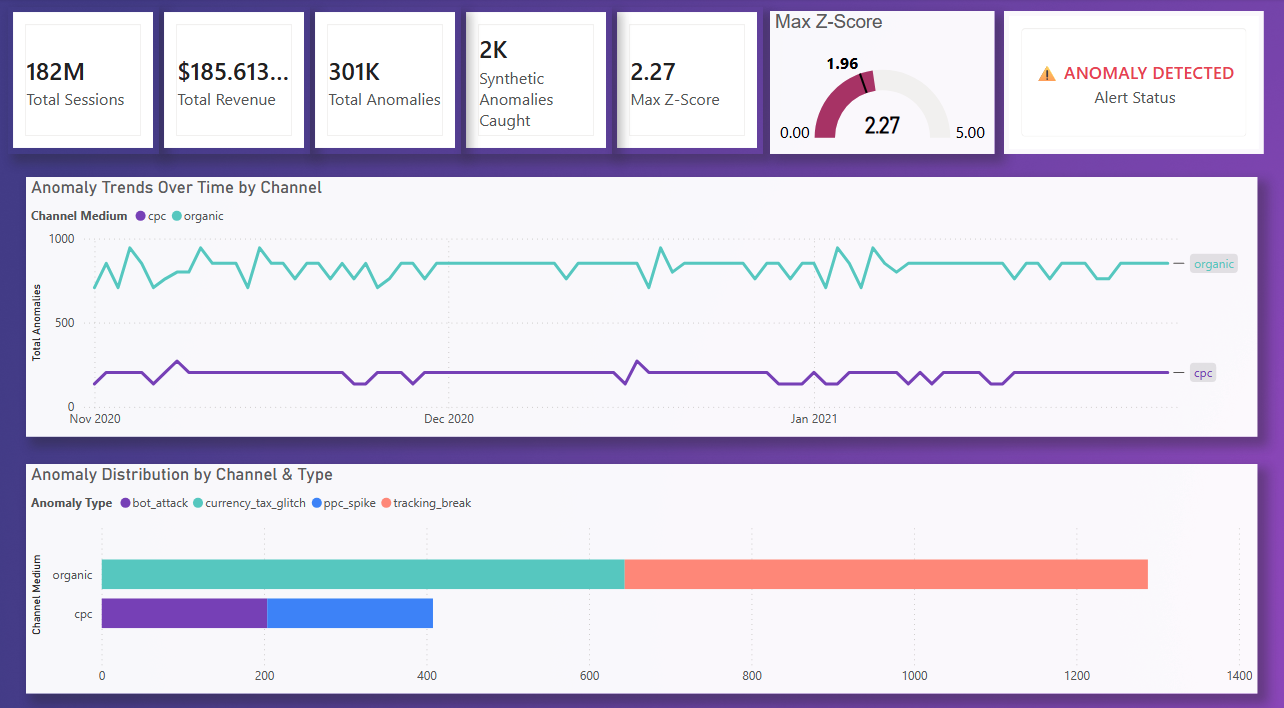

The page's visual inventory and layout, read from the dashboard file:
{"tool":"powerbi","page":{"name":"Page 1","canvas":[1280,720],"ordinal":0},"visuals":[{"type":"cardVisual","fields":{"Data":["fact_daily_metrics_enriched.Total Sessions"]},"box":[9.9,8.9,150,146],"z":0},{"type":"cardVisual","fields":{"Data":["fact_daily_metrics_enriched.Max Z-Score"]},"box":[609.8,8.9,150,146],"z":1000},{"type":"cardVisual","fields":{"Data":["fact_daily_metrics_enriched.Synthetic Anomalies Caught"]},"box":[459.8,8.9,150,146],"z":2000},{"type":"cardVisual","fields":{"Data":["fact_daily_metrics_enriched.Total Revenue"]},"box":[159.9,8.9,150,146],"z":3000},{"type":"cardVisual","fields":{"Data":["fact_daily_metrics_enriched.Total Anomalies"]},"box":[309.8,8.9,150,146],"z":4000},{"type":"lineChart","title":"Anomaly Trends Over Time by Channel","fields":{"Category":["DateTable.Date"],"Y":["fact_daily_metrics_enriched.Total Anomalies"],"Series":["fact_daily_metrics_enriched.channel_medium"]},"box":[27.8,177.8,1222.5,258.2],"z":5000},{"type":"barChart","title":"Anomaly Distribution by Channel & Type","fields":{"Category":["fact_daily_metrics_enriched.channel_medium"],"Y":["fact_daily_metrics_enriched.Total Anomalies"],"Series":["fact_daily_metrics_enriched.anomaly_type"]},"box":[27.8,462.8,1222.5,228.4],"z":6000},{"type":"gauge","fields":{"Y":["fact_daily_metrics_enriched.Max Z-Score"]},"box":[766.7,12.9,223.4,142],"z":7000},{"type":"cardVisual","fields":{"Data":["fact_daily_metrics_enriched.Alert Status"]},"box":[999.1,12.9,258.2,142],"z":8000}]}

Visuals, with their boxes in screenshot pixels (x1, y1, x2, y2), scaled from the page's 1280x720 canvas onto the 1284x708 screenshot:
cardVisual - fact_daily_metrics_enriched.Total Sessions: [10, 9, 160, 152]
cardVisual - fact_daily_metrics_enriched.Max Z-Score: [612, 9, 762, 152]
cardVisual - fact_daily_metrics_enriched.Synthetic Anomalies Caught: [461, 9, 612, 152]
cardVisual - fact_daily_metrics_enriched.Total Revenue: [160, 9, 311, 152]
cardVisual - fact_daily_metrics_enriched.Total Anomalies: [311, 9, 461, 152]
"Anomaly Trends Over Time by Channel" lineChart: [28, 175, 1254, 429]
"Anomaly Distribution by Channel & Type" barChart: [28, 455, 1254, 680]
gauge - fact_daily_metrics_enriched.Max Z-Score: [769, 13, 993, 152]
cardVisual - fact_daily_metrics_enriched.Alert Status: [1002, 13, 1261, 152]
